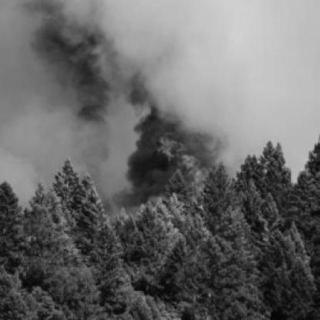Smoke: (2, 2, 316, 194)
